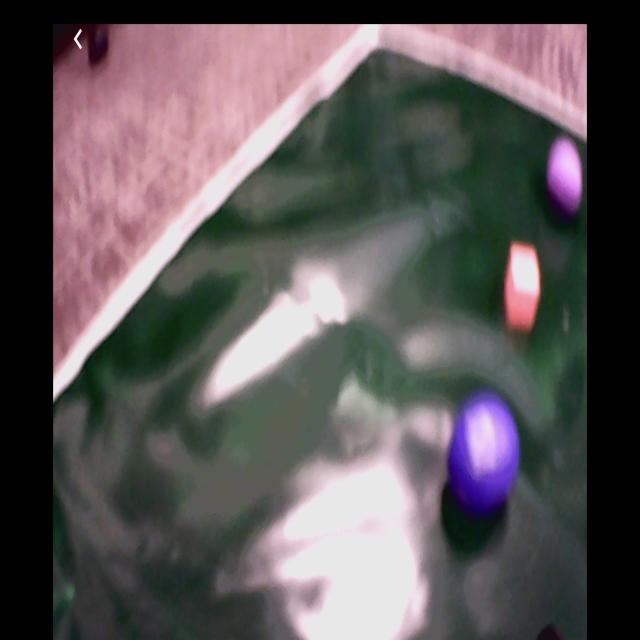ball: (451, 398, 519, 507), (550, 136, 582, 211)
